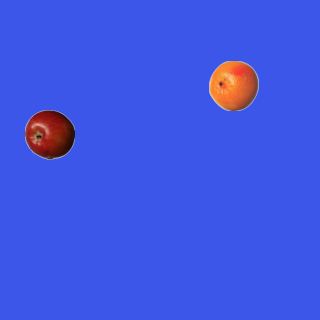Apple Braeburn: (24, 109, 74, 159)
Grapefruit Pink: (208, 60, 258, 110)
